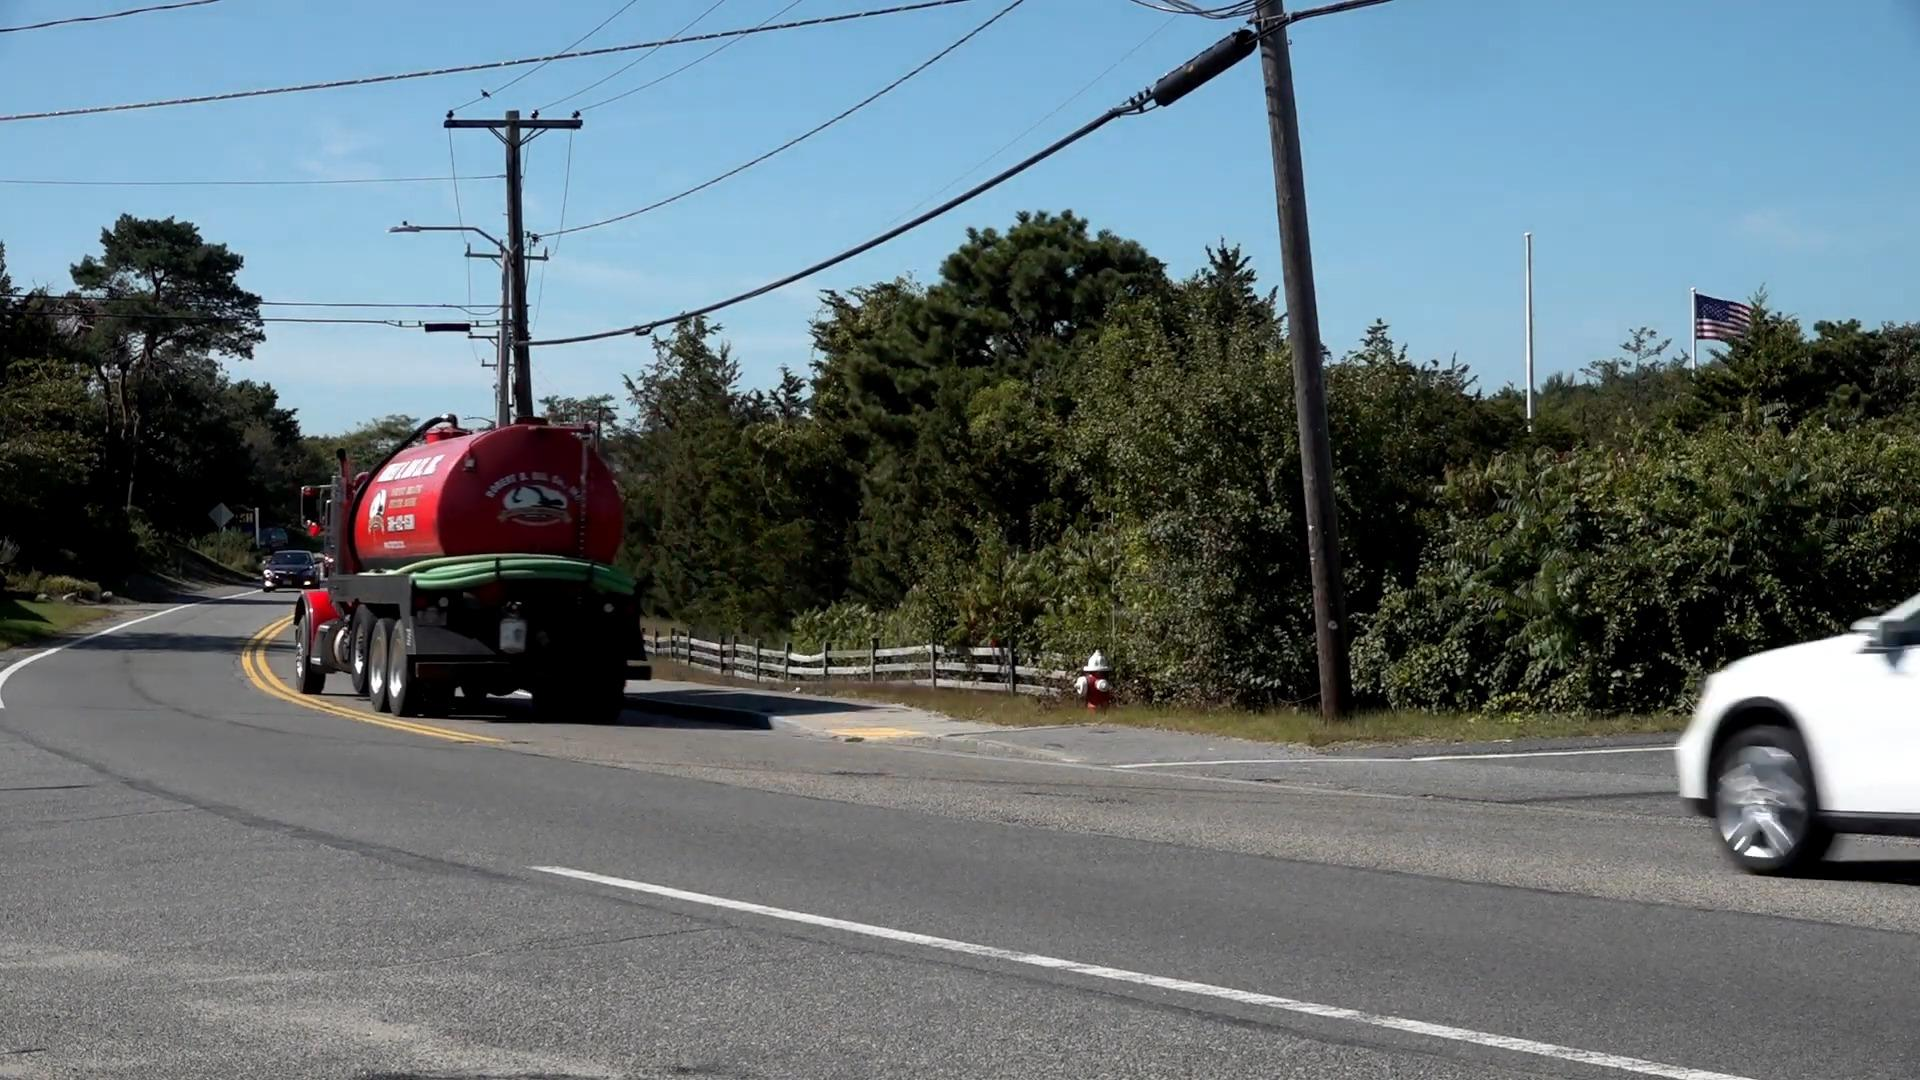suv: (1673, 580, 1920, 881)
truck: (294, 430, 649, 719)
